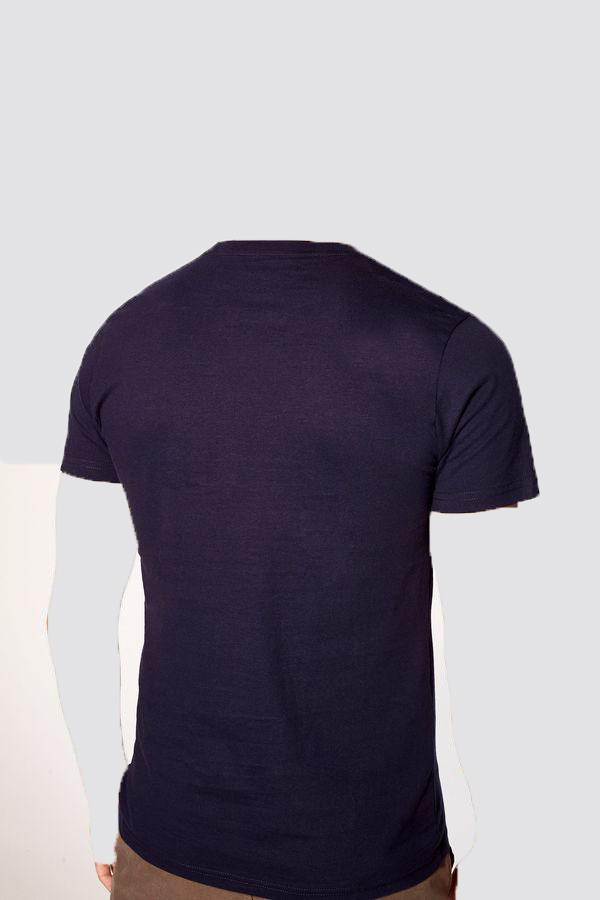teeshirt: (57, 232, 546, 900)
